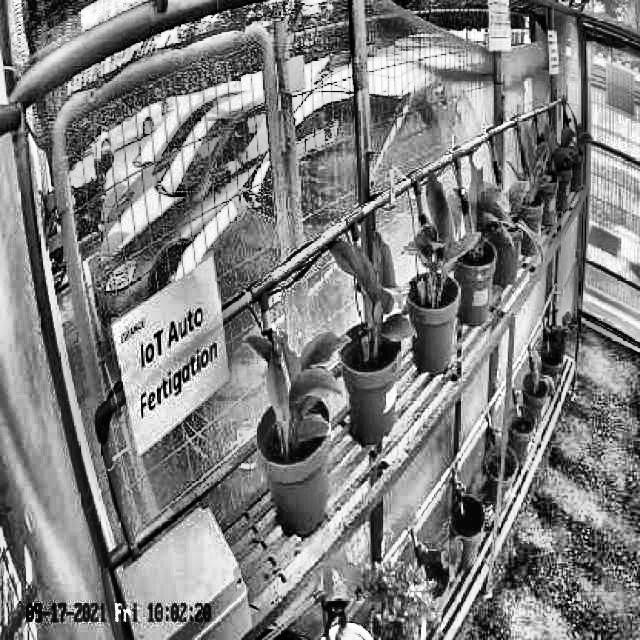plants: (246, 321, 342, 457), (327, 232, 416, 368), (402, 168, 478, 314), (456, 166, 544, 274)
